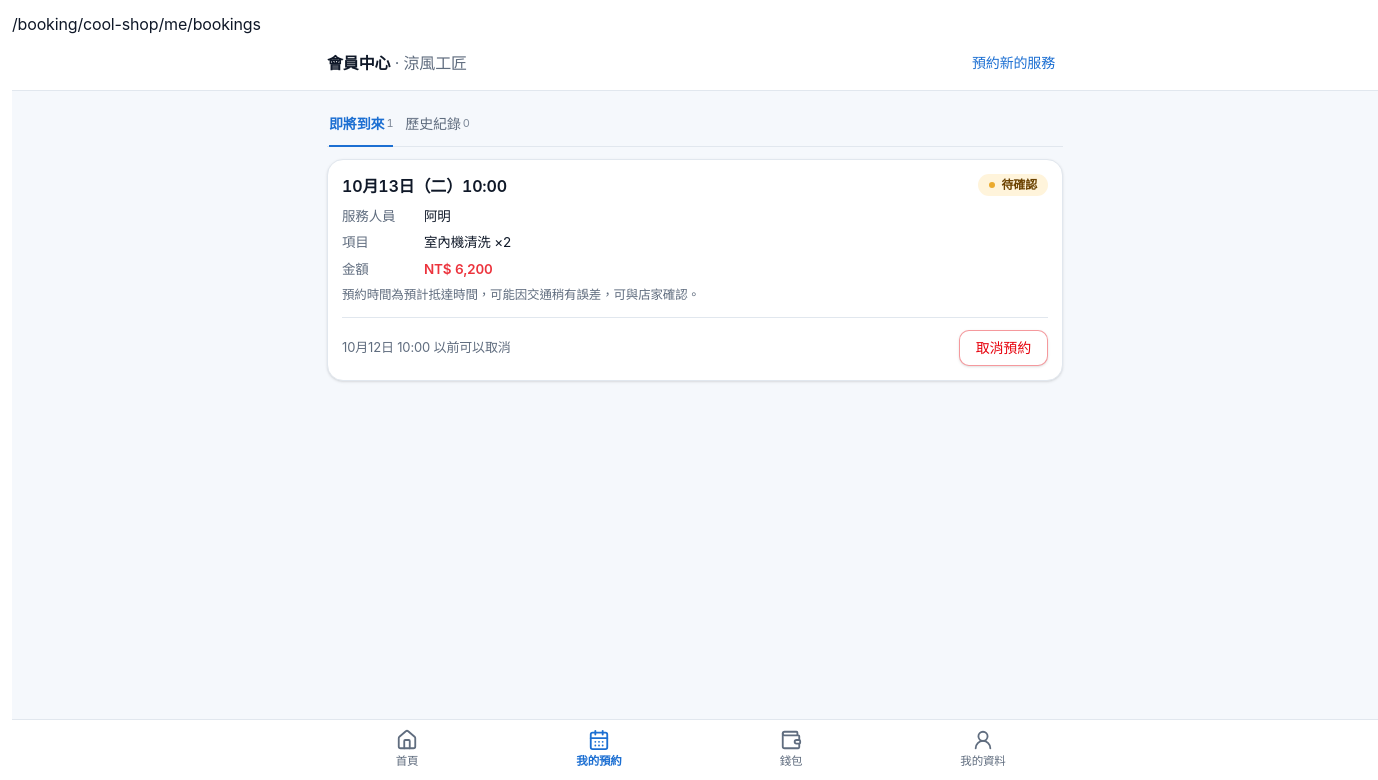
Test: C4-C04 / D06 我的預約與取消 › 歷史分頁:網址 ?tab=history、空狀態「還沒有任何紀錄」
Check: the element with test id "member-booking-card" is shown, box [327,159,1063,381]
Click the tab with test id "member-bookings-tab-history" at (438, 125), box [405,103,470,147]
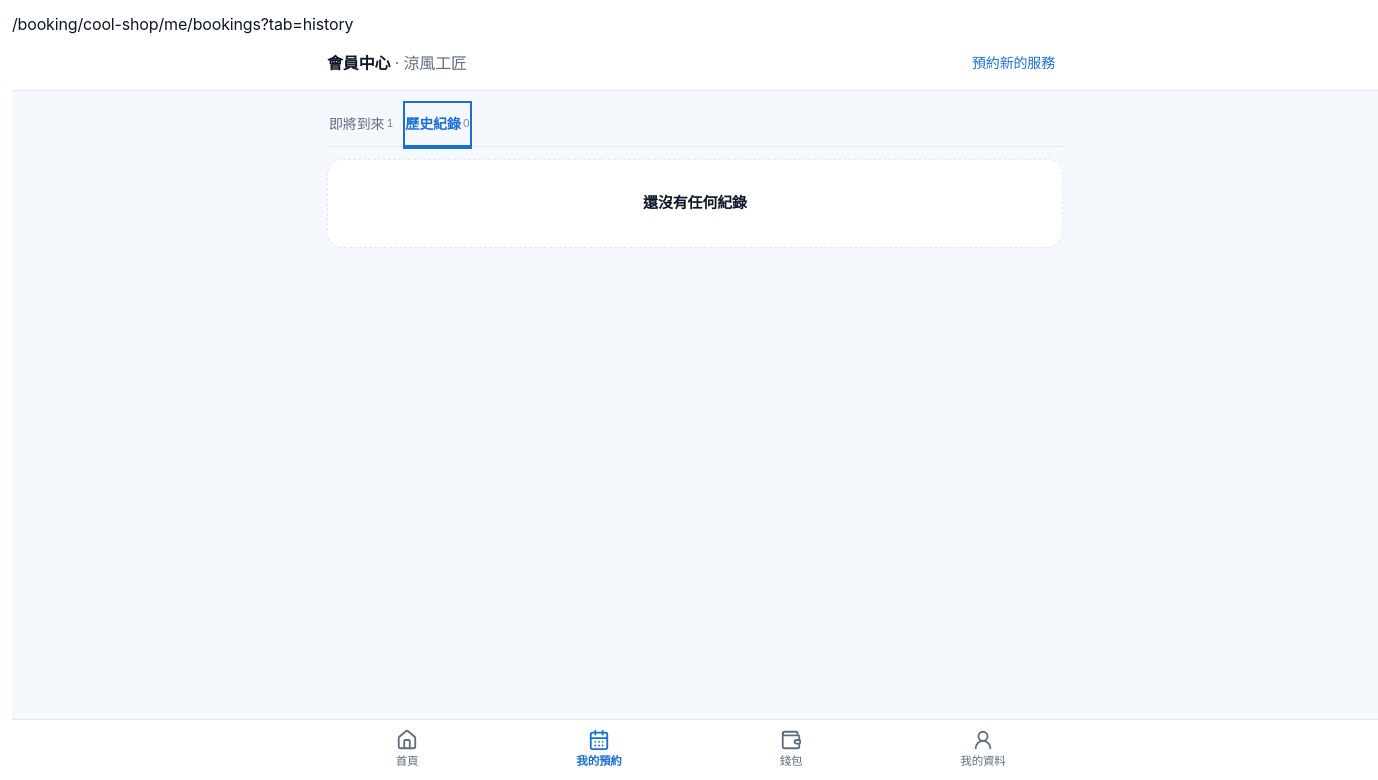
Check: the text with test id "member-bookings-empty" reads "還沒有任何紀錄", box [643,193,747,212]
Check: the text with test id "path-probe" shows "?tab=history", box [12,14,353,34]
